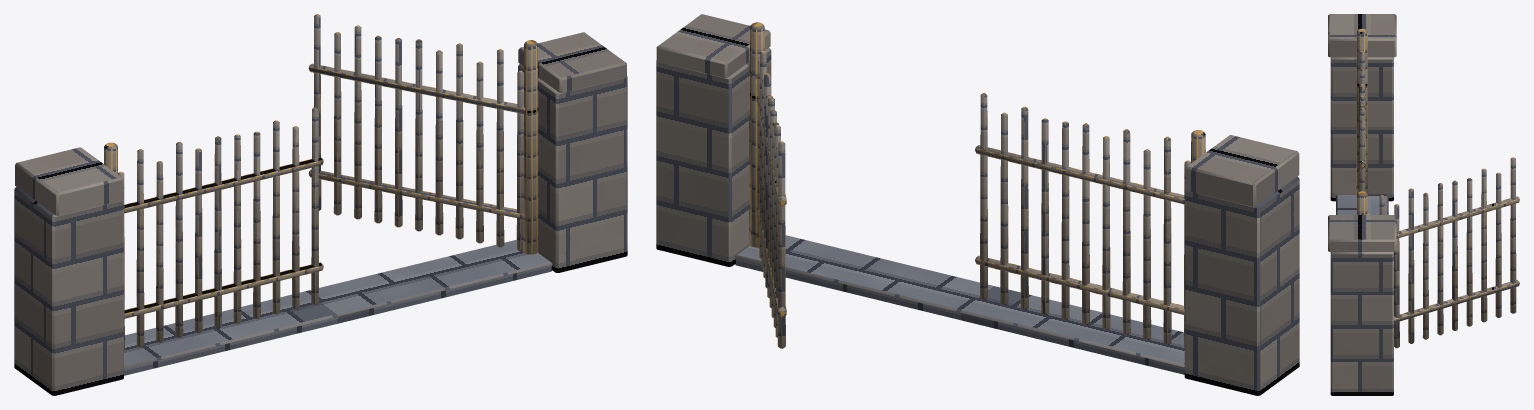
The model's file is cn_courtyard_gate_2.glb.
The picture shows the model from 3 angles, left to right: view 1: azimuth 30°, elevation 25°; view 2: azimuth 150°, elevation 25°; view 3: azimuth 270°, elevation 25°; orthographic projection. The views are drawn at different scales.
Parts seen in each view (by area): view 1: cn_courtyard_gate_3; view 2: cn_courtyard_gate_3; view 3: cn_courtyard_gate_3.
Part boxes in pixels (x1=…): cn_courtyard_gate_3: x1=14, y1=14, x2=627, y2=395; cn_courtyard_gate_3: x1=656, y1=14, x2=1299, y2=395; cn_courtyard_gate_3: x1=1328, y1=14, x2=1519, y2=395.
Size of the model in its own units: 4 by 1.45 by 1.46.
3 materials, 3 textured.
